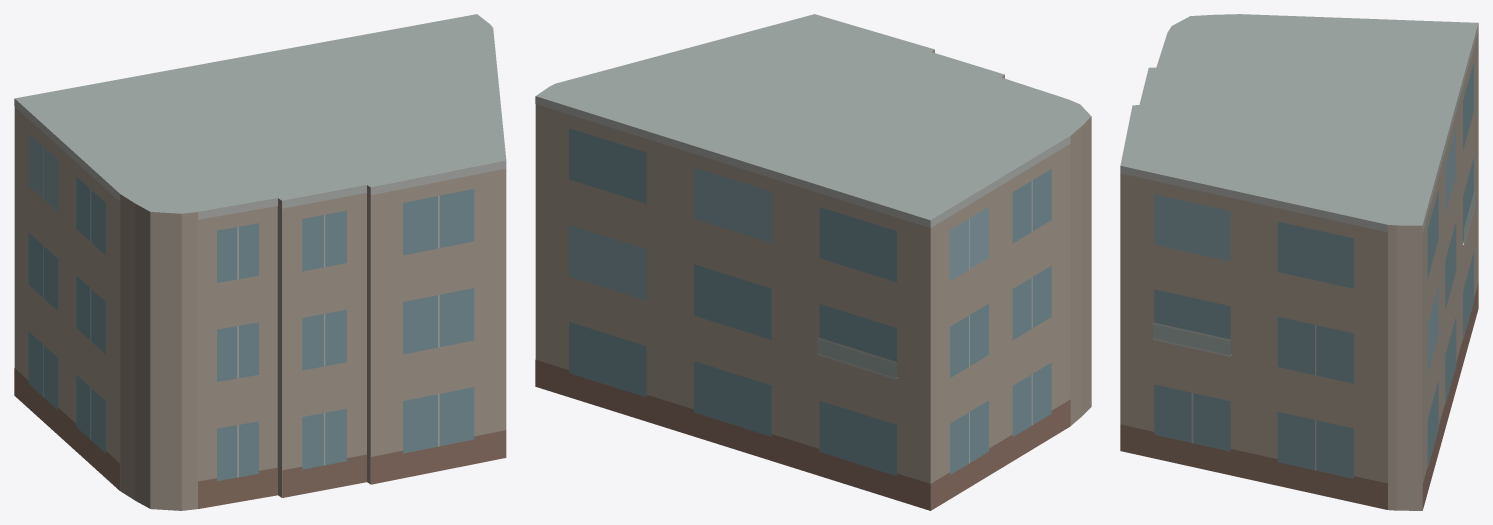
The model's file is survey-upis-32595476.glb.
3 views of the same model, side by side, from view 1: azimuth 30°, elevation 25°; view 2: azimuth 150°, elevation 25°; view 3: azimuth 270°, elevation 25° (orthographic). The views are drawn at different scales.
Visible parts, largest first — view 1: survey-upis-32595476.tmp; view 2: survey-upis-32595476.tmp; view 3: survey-upis-32595476.tmp.
Boxes of the visible parts, bbox=[...] form: survey-upis-32595476.tmp: bbox=[14, 14, 506, 510]; survey-upis-32595476.tmp: bbox=[535, 14, 1091, 510]; survey-upis-32595476.tmp: bbox=[1120, 14, 1478, 510].
Size of the model in its own units: 14.57 by 9.15 by 10.43.
